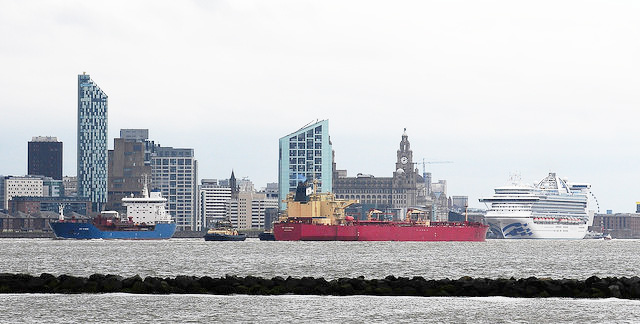cruise_ship: (483, 169, 593, 243)
tanker: (277, 181, 493, 243), (50, 180, 177, 238)
tug_boat: (205, 214, 251, 242)
